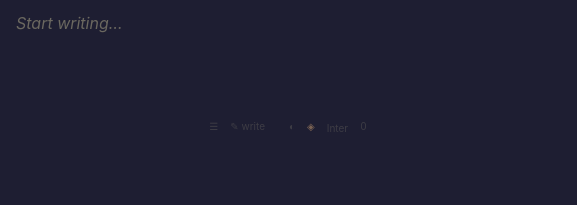
Test case: Page › shows chat input in conversation mode
Click the button with test id "mode-toggle": (248, 126) x1=230 y1=118 x2=265 y2=134
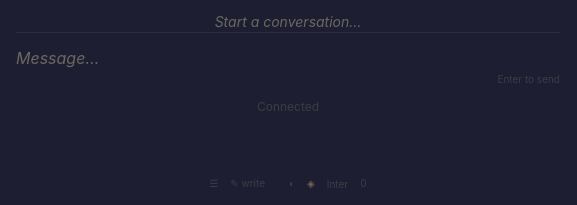
expect the element with test id "chat-input" is shown: met, box x1=16 y1=32 x2=560 y2=91
